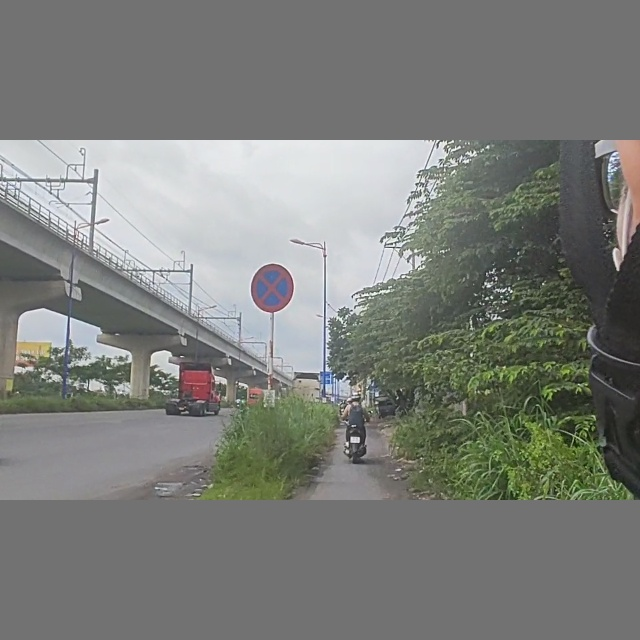P.130: (247, 259, 300, 315)
